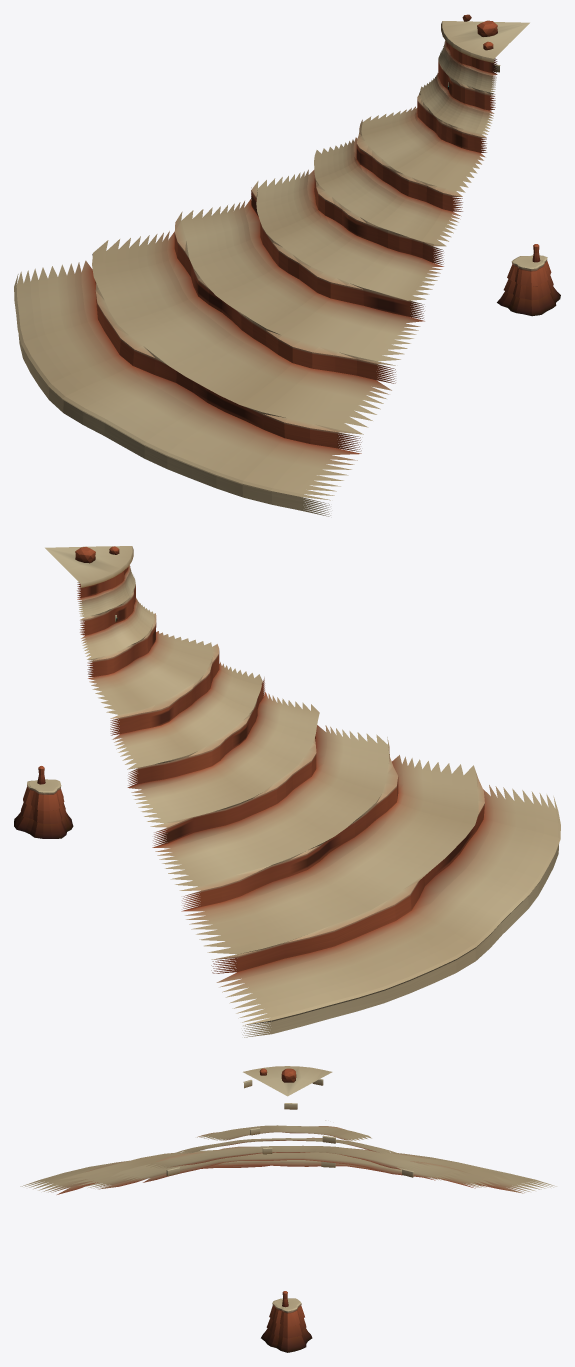
The model's file is canyon-s4-ChdtuYYK.glb.
The picture shows the model from 3 angles, top to bottom: view 1: azimuth 30°, elevation 25°; view 2: azimuth 150°, elevation 25°; view 3: azimuth 270°, elevation 25°; orthographic projection. The views are drawn at different scales.
Visible parts, largest first — view 1: sc_landmark_2, sc_mesa_0; view 2: sc_landmark_2, sc_mesa_0; view 3: sc_landmark_2, sc_mesa_0.
Part boxes in pixels (box(x1,y1,x2,y2)): sc_landmark_2: box(14, 14, 529, 516); sc_mesa_0: box(497, 244, 560, 316); sc_landmark_2: box(45, 546, 560, 1037); sc_mesa_0: box(14, 766, 73, 838); sc_landmark_2: box(20, 1066, 556, 1194); sc_mesa_0: box(261, 1291, 312, 1352).
Bounding box in the file's own units: 459 × 276 × 520.
